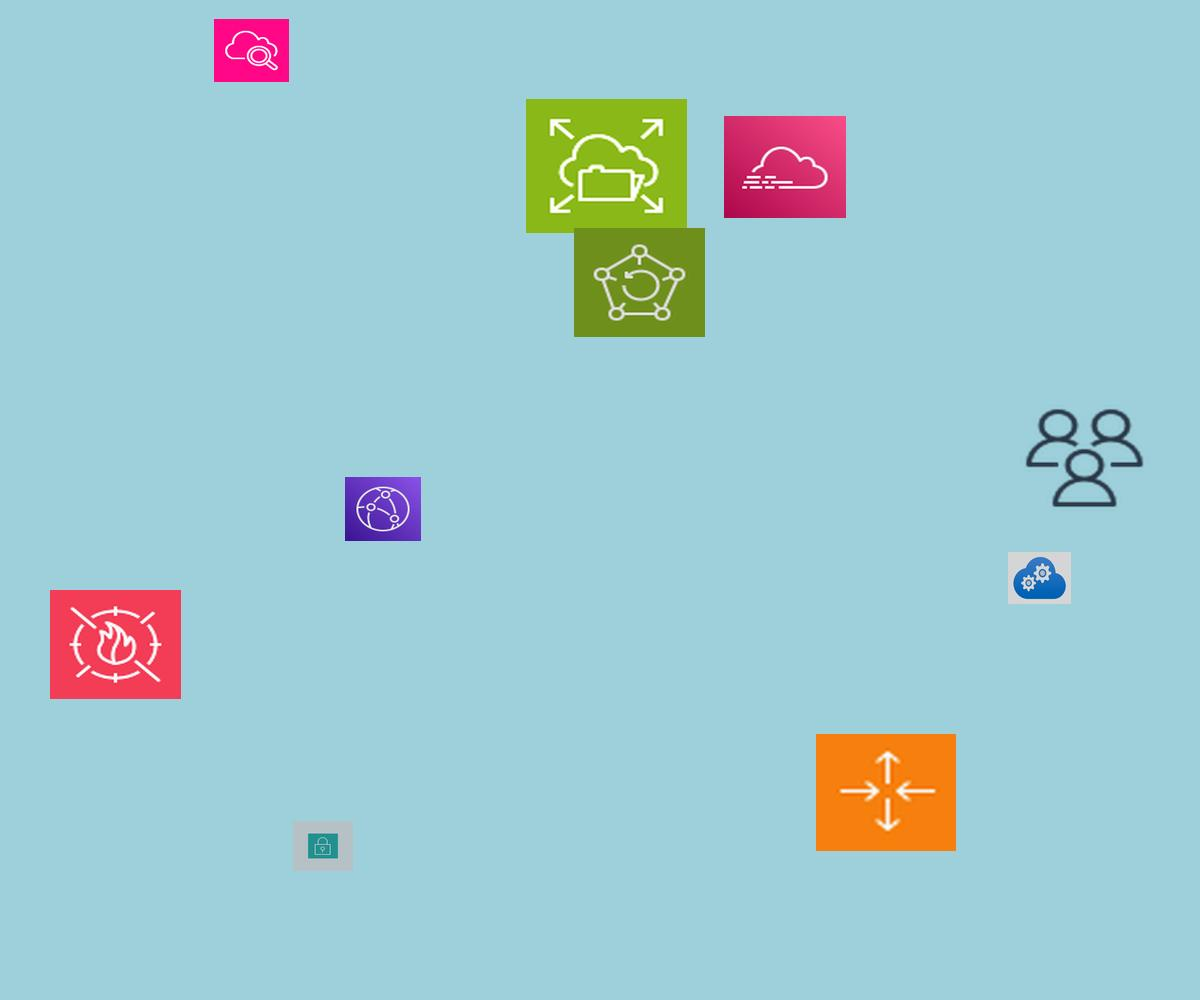AWS-Backup: (574, 228, 705, 337)
AWS-CloudFront: (345, 477, 421, 541)
AWS-CloudTrail: (724, 116, 846, 218)
AWS-CloudWatch: (214, 19, 289, 82)
AWS-EFS: (526, 99, 687, 233)
AWS-Private-subnet: (293, 821, 353, 871)
AWS-Res_Users: (1021, 405, 1148, 511)
AWS-Scaling-group: (816, 734, 956, 851)
AWS-WAF: (50, 590, 181, 699)
Azure_cloud_services: (1008, 552, 1071, 604)
